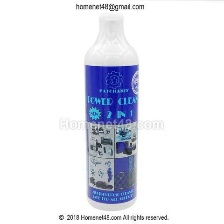cleaning_solution: (80, 10, 140, 212)
